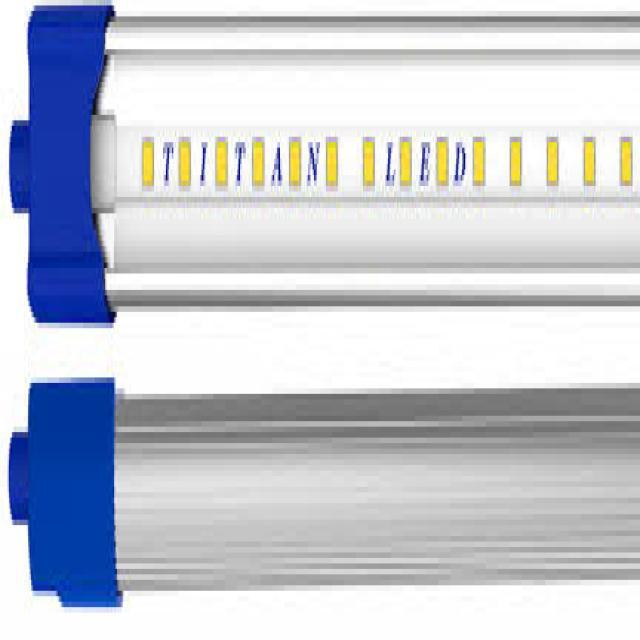tubelight_off: (1, 9, 640, 333), (4, 374, 640, 611)
